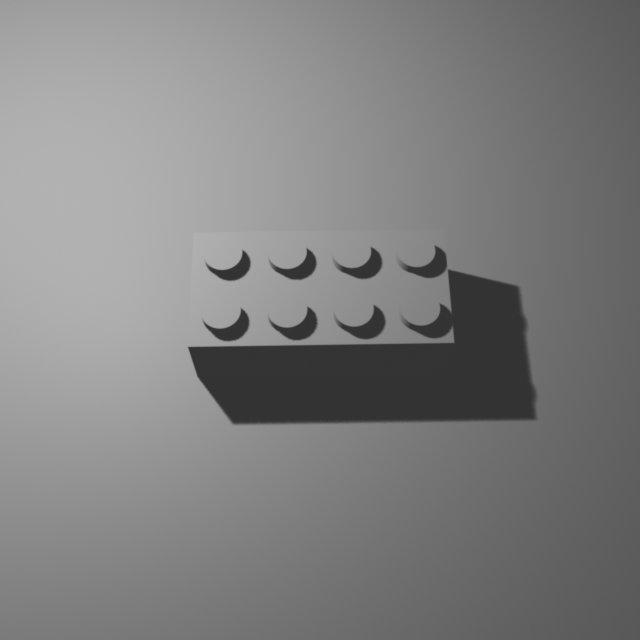lego_2x4: (186, 222, 456, 377)
